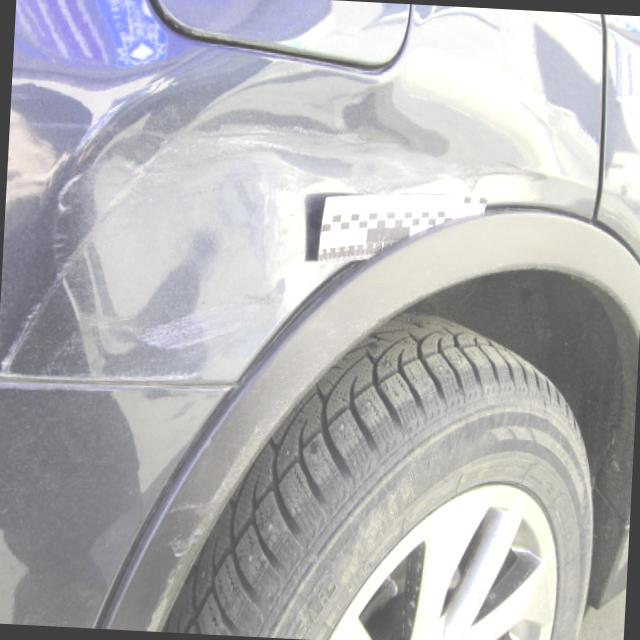Cabossage: (42, 65, 537, 373)
Rayure: (190, 86, 367, 190), (117, 270, 294, 366)
